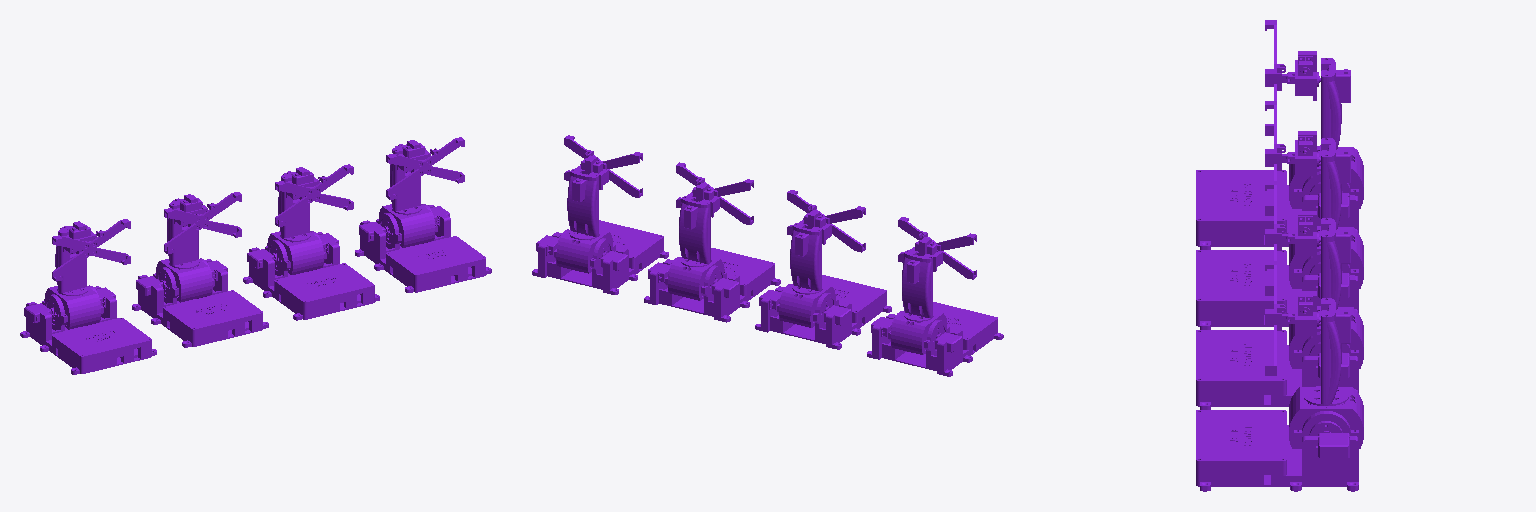
--- Render facts (derived) ---
3 views of the same robot in one strip: view 1: azimuth 30°, elevation 25°; view 2: azimuth 150°, elevation 25°; view 3: azimuth 270°, elevation 25° (orthographic).
Robot: survivor_buddy — 25 links, 24 joints (16 revolute, 8 fixed); root link world; default pose: all joints at 0.
Links seen in each view (by area): view 1: base_2, base_0, base_3, base_1, phonemount_2, phonemount_3, phonemount_0, phonemount_1, torso_3, torso_2, torso_1, torso_0 (+4 smaller); view 2: base_0, base_3, base_1, base_2, neck_2, neck_1, neck_3, neck_0, torso_1, torso_3, torso_0, torso_2 (+4 smaller); view 3: base_3, base_2, base_0, base_1, neck_3, torso_3, neck_2, neck_1, neck_0, torso_2, torso_0, torso_1 (+8 smaller).
Link boxes in pixels (x1,y1,x2,y2): base_2: (243, 231, 379, 320); base_0: (20, 285, 156, 374); base_3: (355, 204, 491, 292); base_1: (132, 258, 268, 347); phonemount_2: (275, 164, 353, 226); phonemount_3: (386, 137, 464, 199); phonemount_0: (52, 219, 130, 281); phonemount_1: (164, 192, 241, 253); torso_3: (379, 204, 434, 247); torso_2: (267, 231, 323, 274); torso_1: (156, 259, 212, 302); torso_0: (44, 286, 100, 329); base_0: (867, 302, 1003, 376); base_3: (532, 220, 668, 294); base_1: (755, 275, 891, 349); base_2: (644, 248, 780, 322); neck_2: (679, 196, 711, 266); neck_1: (790, 223, 822, 294); neck_3: (567, 169, 599, 239); neck_0: (902, 250, 933, 321); torso_1: (779, 284, 835, 327); torso_3: (556, 229, 612, 273); torso_0: (891, 311, 946, 354); torso_2: (668, 257, 724, 300); base_3: (1196, 389, 1358, 491); base_2: (1196, 309, 1358, 409); base_0: (1196, 145, 1358, 249); base_1: (1196, 229, 1358, 329); neck_3: (1304, 298, 1350, 405); torso_3: (1289, 387, 1363, 448); neck_2: (1317, 218, 1350, 325); neck_1: (1317, 138, 1350, 245); neck_0: (1317, 58, 1350, 165); torso_2: (1289, 307, 1363, 368); torso_0: (1289, 147, 1363, 208); torso_1: (1289, 227, 1363, 288).
Size in the robot's own frame: 0.94 by 0.2225 by 0.253 metres.
Meshes: 5 distinct files referenced, 20 mesh visuals loaded (5 binary STL).

robot.urdf — survivor_buddy:
<?xml version="1.0" ?>
<robot name="survivor_buddy">
    <!-- =======================SB 0================================== -->
    <!-- JOINTS- KINEMATIC DATA -->
    <joint name="sb_to_world_0" type="fixed" >
        <origin xyz="0 0 0" rpy="0 0 0"/>   <!-- CHANGE THIS LINE -->
        <parent link="world" />
        <child link="base_dummy_0" />
        <axis xyz="0.0 0.0 0.0" />
        <limit lower="0.0" upper="0.0" effort="0.0" velocity="0.0" />
    </joint>
    <joint name="base_fixed_0" type="fixed">
        <origin xyz="-0.035 -0.033 0.0" rpy="0.0 0.0 0.0" />
        <parent link="base_dummy_0" />
        <child link="base_0" />
        <axis xyz="0.0 0.0 0.0" />
        <limit lower="0.0" upper="0.0" effort="0.0" velocity="0.0" />
    </joint>
    <joint name="torso_joint_0" type="revolute">
        <origin xyz="0.0 0.033 .056" rpy="0.0 0.0 0.0" />
        <parent link="base_0" />
        <child link="torso_0" />
        <axis xyz="1 0.0 0.0" />
        <limit lower="-1.57" upper="1.2" effort="0.0" velocity="0.0" />
    </joint>
    <joint name="neck_swivel_0" type="revolute">
        <origin xyz="0.035 0 0.0" rpy="0.0 0.0 0.0" />
        <parent link="torso_0" />
        <child link="neck_0" />
        <axis xyz="0.0 0.0 1" />
        <limit lower="-1.57" upper="1.57" effort="0.0" velocity="0.0" />
    </joint>
    <joint name="head_tilt_0" type="revolute">
        <origin xyz="0.0 0.0 0.15" rpy="0.0 0.0 0.0" />
        <parent link="neck_0" />
        <child link="head_0" />
        <axis xyz="0.0 1 0.0" />
        <limit lower="-1.57" upper="1.57" effort="0.0" velocity="0.0" />
    </joint>
    <joint name="head_nod_0" type="revolute">
        <origin xyz="0.0 -0.049 0" rpy="0.0 0.0 0.0" />
        <parent link="head_0" />
        <child link="phonemount_0" />
        <axis xyz="1 0 0.0" />
        <limit lower="-.7" upper=".7" effort="0.0" velocity="0.0" />
    </joint>
    <!-- LINKS- INERTIAL DATA -->
    <link name="world" />
    <link name="base_dummy_0" />
    <link name="base_0">
        <inertial>
            <origin xyz="0.0 0.0 0.0" rpy="0.0 0.0 0.0" />
            <mass value="0.0" />
            <inertia ixx="0.0" ixy="0.0" ixz="0.0" iyy="0.0" iyz="0.0" izz="0.0" />
        </inertial>
        <visual name="">
            <origin xyz="0.0 0.0 0.0" rpy="0.0 0.0 0.0" />
            <geometry>
                <mesh filename="package://survivorbuddy_ros/meshes/visual/base.stl" />
            </geometry>
            <material name="">
                <color rgba="0.6 0.2 0.9 1.0" />
            </material>
        </visual>
        <collision>
            <origin xyz="0.0 0.0 0.0" rpy="0.0 0.0 0.0" />
            <geometry>
                <mesh filename="package://survivorbuddy_ros/meshes/collision/base.stl" />
            </geometry>
        </collision>
    </link>
    <link name="torso_0">
        <inertial>
            <origin xyz="0.0 -0.033 -.056" rpy="0.0 0.0 0.0" />
            <mass value="0.0" />
            <inertia ixx="0.0" ixy="0.0" ixz="0.0" iyy="0.0" iyz="0.0" izz="0.0" />
        </inertial>
        <visual name="">
            <origin xyz="0.0 -0.033 -.056" rpy="0.0 0.0 0.0" />
            <geometry>
                <mesh filename="package://survivorbuddy_ros/meshes/visual/torso.stl" />
            </geometry>
            <material name="">
                <color rgba="0.6 0.2 0.9 1.0" />
            </material>
        </visual>
        <collision>
            <origin xyz="0.0 -0.033 -.056" rpy="0.0 0.0 0.0" />
            <geometry>
                <mesh filename="package://survivorbuddy_ros/meshes/collision/torso.stl" />
            </geometry>
        </collision>
    </link>
    <link name="neck_0">
        <inertial>
            <origin xyz="-0.035 -0.033 -0.056" rpy="0.0 0.0 0.0" />
            <mass value="0.0" />
            <inertia ixx="0.0" ixy="0.0" ixz="0.0" iyy="0.0" iyz="0.0" izz="0.0" />
        </inertial>
        <visual name="">
            <origin xyz="-0.035 -0.033 -0.056" rpy="0.0 0.0 0.0" />
            <geometry>
                <mesh filename="package://survivorbuddy_ros/meshes/visual/neck.stl" />
            </geometry>
            <material name="">
                <color rgba="0.6 0.2 0.9 1.0" />
            </material>
        </visual>
        <collision>
            <origin xyz="-0.035 -0.033 -0.056" rpy="0.0 0.0 0.0" />
            <geometry>
                <mesh filename="package://survivorbuddy_ros/meshes/collision/neck.stl" />
            </geometry>
        </collision>
    </link>
    <link name="head_0">
        <inertial>
            <origin xyz="-0.035 -0.033 -0.206" rpy="0.0 0.0 0.0" />
            <mass value="0.0" />
            <inertia ixx="0.0" ixy="0.0" ixz="0.0" iyy="0.0" iyz="0.0" izz="0.0" />
        </inertial>
        <visual name="">
            <origin xyz="-0.035 -0.033 -0.206" rpy="0.0 0.0 0.0" />
            <geometry>
                <mesh filename="package://survivorbuddy_ros/meshes/visual/head.stl" />
            </geometry>
            <material name="">
                <color rgba="0.6 0.2 0.9 1.0" />
            </material>
        </visual>
        <collision>
            <origin xyz="-0.035 -0.033 -0.206" rpy="0.0 0.0 0.0" />
            <geometry>
                <mesh filename="package://survivorbuddy_ros/meshes/collision/head.stl" />
            </geometry>
        </collision>
    </link>
    <link name="phonemount_0">
        <inertial>
            <origin xyz="-0.035 0.016 -0.206" rpy="0.0 0.0 0.0" />
            <mass value="0.0" />
            <inertia ixx="0.0" ixy="0.0" ixz="0.0" iyy="0.0" iyz="0.0" izz="0.0" />
        </inertial>
        <visual name="">
            <origin xyz="-0.035 0.016 -0.206" rpy="0.0 0.0 0.0" />
            <geometry>
                <mesh filename="package://survivorbuddy_ros/meshes/visual/phonemount-new.stl" />
            </geometry>
            <material name="">
                <color rgba="0.6 0.2 0.9 1.0" />
            </material>
        </visual>
        <collision>
            <origin xyz="-0.035 0.016 -0.206" rpy="0.0 0.0 0.0" />
            <geometry>
                <mesh filename="package://survivorbuddy_ros/meshes/collision/phonemount-new.stl" />
            </geometry>
        </collision>
    </link>
    <!-- =======================SB 1================================== -->
    <!-- JOINTS- KINEMATIC DATA -->
    <joint name="sb_to_world_1" type="fixed" >
        <origin xyz=".25 0 0" rpy="0 0 0"/>  <!-- CHANGE THIS LINE -->
        <parent link="world" />
        <child link="base_dummy_1" />
        <axis xyz="0.0 0.0 0.0" />
        <limit lower="0.0" upper="0.0" effort="0.0" velocity="0.0" />
    </joint>
    <joint name="base_fixed_1" type="fixed">
        <origin xyz="-0.035 -0.033 0.0" rpy="0.0 0.0 0.0" />
        <parent link="base_dummy_1" />
        <child link="base_1" />
        <axis xyz="0.0 0.0 0.0" />
        <limit lower="0.0" upper="0.0" effort="0.0" velocity="0.0" />
    </joint>
    <joint name="torso_joint_1" type="revolute">
        <origin xyz="0.0 0.033 .056" rpy="0.0 0.0 0.0" />
        <parent link="base_1" />
        <child link="torso_1" />
        <axis xyz="1 0.0 0.0" />
        <limit lower="-1.57" upper="1.2" effort="0.0" velocity="0.0" />
    </joint>
    <joint name="neck_swivel_1" type="revolute">
        <origin xyz="0.035 0 0.0" rpy="0.0 0.0 0.0" />
        <parent link="torso_1" />
        <child link="neck_1" />
        <axis xyz="0.0 0.0 1" />
        <limit lower="-1.57" upper="1.57" effort="0.0" velocity="0.0" />
    </joint>
    <joint name="head_tilt_1" type="revolute">
        <origin xyz="0.0 0.0 0.15" rpy="0.0 0.0 0.0" />
        <parent link="neck_1" />
        <child link="head_1" />
        <axis xyz="0.0 1 0.0" />
        <limit lower="-1.57" upper="1.57" effort="0.0" velocity="0.0" />
    </joint>
    <joint name="head_nod_1" type="revolute">
        <origin xyz="0.0 -0.049 0" rpy="0.0 0.0 0.0" />
        <parent link="head_1" />
        <child link="phonemount_1" />
        <axis xyz="1 0 0.0" />
        <limit lower="-.7" upper=".7" effort="0.0" velocity="0.0" />
    </joint>
    <!-- LINKS- INERTIAL DATA -->
    <link name="base_dummy_1" />
    <link name="base_1">
        <inertial>
            <origin xyz="0.0 0.0 0.0" rpy="0.0 0.0 0.0" />
            <mass value="0.0" />
            <inertia ixx="0.0" ixy="0.0" ixz="0.0" iyy="0.0" iyz="0.0" izz="0.0" />
        </inertial>
        <visual name="">
            <origin xyz="0.0 0.0 0.0" rpy="0.0 0.0 0.0" />
            <geometry>
                <mesh filename="package://survivorbuddy_ros/meshes/visual/base.stl" />
            </geometry>
            <material name="">
                <color rgba="0.6 0.2 0.9 1.0" />
            </material>
        </visual>
        <collision>
            <origin xyz="0.0 0.0 0.0" rpy="0.0 0.0 0.0" />
            <geometry>
                <mesh filename="package://survivorbuddy_ros/meshes/collision/base.stl" />
            </geometry>
        </collision>
    </link>
    <link name="torso_1">
        <inertial>
            <origin xyz="0.0 -0.033 -.056" rpy="0.0 0.0 0.0" />
            <mass value="0.0" />
            <inertia ixx="0.0" ixy="0.0" ixz="0.0" iyy="0.0" iyz="0.0" izz="0.0" />
        </inertial>
        <visual name="">
            <origin xyz="0.0 -0.033 -.056" rpy="0.0 0.0 0.0" />
            <geometry>
                <mesh filename="package://survivorbuddy_ros/meshes/visual/torso.stl" />
            </geometry>
            <material name="">
                <color rgba="0.6 0.2 0.9 1.0" />
            </material>
        </visual>
        <collision>
            <origin xyz="0.0 -0.033 -.056" rpy="0.0 0.0 0.0" />
            <geometry>
                <mesh filename="package://survivorbuddy_ros/meshes/collision/torso.stl" />
            </geometry>
        </collision>
    </link>
    <link name="neck_1">
        <inertial>
            <origin xyz="-0.035 -0.033 -0.056" rpy="0.0 0.0 0.0" />
            <mass value="0.0" />
            <inertia ixx="0.0" ixy="0.0" ixz="0.0" iyy="0.0" iyz="0.0" izz="0.0" />
        </inertial>
        <visual name="">
            <origin xyz="-0.035 -0.033 -0.056" rpy="0.0 0.0 0.0" />
            <geometry>
                <mesh filename="package://survivorbuddy_ros/meshes/visual/neck.stl" />
            </geometry>
            <material name="">
                <color rgba="0.6 0.2 0.9 1.0" />
            </material>
        </visual>
        <collision>
            <origin xyz="-0.035 -0.033 -0.056" rpy="0.0 0.0 0.0" />
            <geometry>
                <mesh filename="package://survivorbuddy_ros/meshes/collision/neck.stl" />
            </geometry>
        </collision>
    </link>
    <link name="head_1">
        <inertial>
            <origin xyz="-0.035 -0.033 -0.206" rpy="0.0 0.0 0.0" />
            <mass value="0.0" />
            <inertia ixx="0.0" ixy="0.0" ixz="0.0" iyy="0.0" iyz="0.0" izz="0.0" />
        </inertial>
        <visual name="">
            <origin xyz="-0.035 -0.033 -0.206" rpy="0.0 0.0 0.0" />
            <geometry>
                <mesh filename="package://survivorbuddy_ros/meshes/visual/head.stl" />
            </geometry>
            <material name="">
                <color rgba="0.6 0.2 0.9 1.0" />
            </material>
        </visual>
        <collision>
            <origin xyz="-0.035 -0.033 -0.206" rpy="0.0 0.0 0.0" />
            <geometry>
                <mesh filename="package://survivorbuddy_ros/meshes/collision/head.stl" />
            </geometry>
        </collision>
    </link>
    <link name="phonemount_1">
        <inertial>
            <origin xyz="-0.035 0.016 -0.206" rpy="0.0 0.0 0.0" />
            <mass value="0.0" />
            <inertia ixx="0.0" ixy="0.0" ixz="0.0" iyy="0.0" iyz="0.0" izz="0.0" />
        </inertial>
        <visual name="">
            <origin xyz="-0.035 0.016 -0.206" rpy="0.0 0.0 0.0" />
            <geometry>
                <mesh filename="package://survivorbuddy_ros/meshes/visual/phonemount-new.stl" />
            </geometry>
            <material name="">
                <color rgba="0.6 0.2 0.9 1.0" />
            </material>
        </visual>
        <collision>
            <origin xyz="-0.035 0.016 -0.206" rpy="0.0 0.0 0.0" />
            <geometry>
                <mesh filename="package://survivorbuddy_ros/meshes/collision/phonemount-new.stl" />
            </geometry>
        </collision>
    </link>
    <!-- =======================SB 2================================== -->
    <!-- JOINTS- KINEMATIC DATA -->
    <joint name="sb_to_world_2" type="fixed" >
        <origin xyz=".5 0 0" rpy="0 0 0"/>  <!-- CHANGE THIS LINE -->
        <parent link="world" />
        <child link="base_dummy_2" />
        <axis xyz="0.0 0.0 0.0" />
        <limit lower="0.0" upper="0.0" effort="0.0" velocity="0.0" />
    </joint>
    <joint name="base_fixed_2" type="fixed">
        <origin xyz="-0.035 -0.033 0.0" rpy="0.0 0.0 0.0" />
        <parent link="base_dummy_2" />
        <child link="base_2" />
        <axis xyz="0.0 0.0 0.0" />
        <limit lower="0.0" upper="0.0" effort="0.0" velocity="0.0" />
    </joint>
    <joint name="torso_joint_2" type="revolute">
        <origin xyz="0.0 0.033 .056" rpy="0.0 0.0 0.0" />
        <parent link="base_2" />
        <child link="torso_2" />
        <axis xyz="1 0.0 0.0" />
        <limit lower="-1.57" upper="1.2" effort="0.0" velocity="0.0" />
    </joint>
    <joint name="neck_swivel_2" type="revolute">
        <origin xyz="0.035 0 0.0" rpy="0.0 0.0 0.0" />
        <parent link="torso_2" />
        <child link="neck_2" />
        <axis xyz="0.0 0.0 1" />
        <limit lower="-1.57" upper="1.57" effort="0.0" velocity="0.0" />
    </joint>
    <joint name="head_tilt_2" type="revolute">
        <origin xyz="0.0 0.0 0.15" rpy="0.0 0.0 0.0" />
        <parent link="neck_2" />
        <child link="head_2" />
        <axis xyz="0.0 1 0.0" />
        <limit lower="-1.57" upper="1.57" effort="0.0" velocity="0.0" />
    </joint>
    <joint name="head_nod_2" type="revolute">
        <origin xyz="0.0 -0.049 0" rpy="0.0 0.0 0.0" />
        <parent link="head_2" />
        <child link="phonemount_2" />
        <axis xyz="1 0 0.0" />
        <limit lower="-.7" upper=".7" effort="0.0" velocity="0.0" />
    </joint>
    <!-- LINKS- INERTIAL DATA -->
    <link name="base_dummy_2" />
    <link name="base_2">
        <inertial>
            <origin xyz="0.0 0.0 0.0" rpy="0.0 0.0 0.0" />
            <mass value="0.0" />
            <inertia ixx="0.0" ixy="0.0" ixz="0.0" iyy="0.0" iyz="0.0" izz="0.0" />
        </inertial>
        <visual name="">
            <origin xyz="0.0 0.0 0.0" rpy="0.0 0.0 0.0" />
            <geometry>
                <mesh filename="package://survivorbuddy_ros/meshes/visual/base.stl" />
            </geometry>
            <material name="">
                <color rgba="0.6 0.2 0.9 1.0" />
            </material>
        </visual>
        <collision>
            <origin xyz="0.0 0.0 0.0" rpy="0.0 0.0 0.0" />
            <geometry>
                <mesh filename="package://survivorbuddy_ros/meshes/collision/base.stl" />
            </geometry>
        </collision>
    </link>
    <link name="torso_2">
        <inertial>
            <origin xyz="0.0 -0.033 -.056" rpy="0.0 0.0 0.0" />
            <mass value="0.0" />
            <inertia ixx="0.0" ixy="0.0" ixz="0.0" iyy="0.0" iyz="0.0" izz="0.0" />
        </inertial>
        <visual name="">
            <origin xyz="0.0 -0.033 -.056" rpy="0.0 0.0 0.0" />
            <geometry>
                <mesh filename="package://survivorbuddy_ros/meshes/visual/torso.stl" />
            </geometry>
            <material name="">
                <color rgba="0.6 0.2 0.9 1.0" />
            </material>
        </visual>
        <collision>
            <origin xyz="0.0 -0.033 -.056" rpy="0.0 0.0 0.0" />
            <geometry>
                <mesh filename="package://survivorbuddy_ros/meshes/collision/torso.stl" />
            </geometry>
        </collision>
    </link>
    <link name="neck_2">
        <inertial>
            <origin xyz="-0.035 -0.033 -0.056" rpy="0.0 0.0 0.0" />
            <mass value="0.0" />
            <inertia ixx="0.0" ixy="0.0" ixz="0.0" iyy="0.0" iyz="0.0" izz="0.0" />
        </inertial>
        <visual name="">
            <origin xyz="-0.035 -0.033 -0.056" rpy="0.0 0.0 0.0" />
            <geometry>
                <mesh filename="package://survivorbuddy_ros/meshes/visual/neck.stl" />
            </geometry>
            <material name="">
                <color rgba="0.6 0.2 0.9 1.0" />
            </material>
        </visual>
        <collision>
            <origin xyz="-0.035 -0.033 -0.056" rpy="0.0 0.0 0.0" />
            <geometry>
                <mesh filename="package://survivorbuddy_ros/meshes/collision/neck.stl" />
            </geometry>
        </collision>
    </link>
    <link name="head_2">
        <inertial>
            <origin xyz="-0.035 -0.033 -0.206" rpy="0.0 0.0 0.0" />
            <mass value="0.0" />
            <inertia ixx="0.0" ixy="0.0" ixz="0.0" iyy="0.0" iyz="0.0" izz="0.0" />
        </inertial>
        <visual name="">
            <origin xyz="-0.035 -0.033 -0.206" rpy="0.0 0.0 0.0" />
            <geometry>
                <mesh filename="package://survivorbuddy_ros/meshes/visual/head.stl" />
            </geometry>
            <material name="">
                <color rgba="0.6 0.2 0.9 1.0" />
            </material>
        </visual>
        <collision>
            <origin xyz="-0.035 -0.033 -0.206" rpy="0.0 0.0 0.0" />
            <geometry>
                <mesh filename="package://survivorbuddy_ros/meshes/collision/head.stl" />
            </geometry>
        </collision>
    </link>
    <link name="phonemount_2">
        <inertial>
            <origin xyz="-0.035 0.016 -0.206" rpy="0.0 0.0 0.0" />
            <mass value="0.0" />
            <inertia ixx="0.0" ixy="0.0" ixz="0.0" iyy="0.0" iyz="0.0" izz="0.0" />
        </inertial>
        <visual name="">
            <origin xyz="-0.035 0.016 -0.206" rpy="0.0 0.0 0.0" />
            <geometry>
                <mesh filename="package://survivorbuddy_ros/meshes/visual/phonemount-new.stl" />
            </geometry>
            <material name="">
                <color rgba="0.6 0.2 0.9 1.0" />
            </material>
        </visual>
        <collision>
            <origin xyz="-0.035 0.016 -0.206" rpy="0.0 0.0 0.0" />
            <geometry>
                <mesh filename="package://survivorbuddy_ros/meshes/collision/phonemount-new.stl" />
            </geometry>
        </collision>
    </link>
    <!-- =======================SB 3================================== -->
    <!-- JOINTS- KINEMATIC DATA -->
    <joint name="sb_to_world_3" type="fixed" >
        <origin xyz=".75 0 0" rpy="0 0 0"/> <!-- CHANGE THIS LINE -->
        <parent link="world" />
        <child link="base_dummy_3" />
        <axis xyz="0.0 0.0 0.0" />
        <limit lower="0.0" upper="0.0" effort="0.0" velocity="0.0" />
    </joint>
    <joint name="base_fixed_3" type="fixed">
        <origin xyz="-0.035 -0.033 0.0" rpy="0.0 0.0 0.0" />
        <parent link="base_dummy_3" />
        <child link="base_3" />
        <axis xyz="0.0 0.0 0.0" />
        <limit lower="0.0" upper="0.0" effort="0.0" velocity="0.0" />
    </joint>
    <joint name="torso_joint_3" type="revolute">
        <origin xyz="0.0 0.033 .056" rpy="0.0 0.0 0.0" />
        <parent link="base_3" />
        <child link="torso_3" />
        <axis xyz="1 0.0 0.0" />
        <limit lower="-1.57" upper="1.2" effort="0.0" velocity="0.0" />
    </joint>
    <joint name="neck_swivel_3" type="revolute">
        <origin xyz="0.035 0 0.0" rpy="0.0 0.0 0.0" />
        <parent link="torso_3" />
        <child link="neck_3" />
        <axis xyz="0.0 0.0 1" />
        <limit lower="-1.57" upper="1.57" effort="0.0" velocity="0.0" />
    </joint>
    <joint name="head_tilt_3" type="revolute">
        <origin xyz="0.0 0.0 0.15" rpy="0.0 0.0 0.0" />
        <parent link="neck_3" />
        <child link="head_3" />
        <axis xyz="0.0 1 0.0" />
        <limit lower="-1.57" upper="1.57" effort="0.0" velocity="0.0" />
    </joint>
    <joint name="head_nod_3" type="revolute">
        <origin xyz="0.0 -0.049 0" rpy="0.0 0.0 0.0" />
        <parent link="head_3" />
        <child link="phonemount_3" />
        <axis xyz="1 0 0.0" />
        <limit lower="-.7" upper=".7" effort="0.0" velocity="0.0" />
    </joint>
    <!-- LINKS- INERTIAL DATA -->
    <link name="base_dummy_3" />
    <link name="base_3">
        <inertial>
            <origin xyz="0.0 0.0 0.0" rpy="0.0 0.0 0.0" />
            <mass value="0.0" />
            <inertia ixx="0.0" ixy="0.0" ixz="0.0" iyy="0.0" iyz="0.0" izz="0.0" />
        </inertial>
        <visual name="">
            <origin xyz="0.0 0.0 0.0" rpy="0.0 0.0 0.0" />
            <geometry>
                <mesh filename="package://survivorbuddy_ros/meshes/visual/base.stl" />
            </geometry>
            <material name="">
                <color rgba="0.6 0.2 0.9 1.0" />
            </material>
        </visual>
        <collision>
            <origin xyz="0.0 0.0 0.0" rpy="0.0 0.0 0.0" />
            <geometry>
                <mesh filename="package://survivorbuddy_ros/meshes/collision/base.stl" />
            </geometry>
        </collision>
    </link>
    <link name="torso_3">
        <inertial>
            <origin xyz="0.0 -0.033 -.056" rpy="0.0 0.0 0.0" />
            <mass value="0.0" />
            <inertia ixx="0.0" ixy="0.0" ixz="0.0" iyy="0.0" iyz="0.0" izz="0.0" />
        </inertial>
        <visual name="">
            <origin xyz="0.0 -0.033 -.056" rpy="0.0 0.0 0.0" />
            <geometry>
                <mesh filename="package://survivorbuddy_ros/meshes/visual/torso.stl" />
            </geometry>
            <material name="">
                <color rgba="0.6 0.2 0.9 1.0" />
            </material>
        </visual>
        <collision>
            <origin xyz="0.0 -0.033 -.056" rpy="0.0 0.0 0.0" />
            <geometry>
                <mesh filename="package://survivorbuddy_ros/meshes/collision/torso.stl" />
            </geometry>
        </collision>
    </link>
    <link name="neck_3">
        <inertial>
            <origin xyz="-0.035 -0.033 -0.056" rpy="0.0 0.0 0.0" />
            <mass value="0.0" />
            <inertia ixx="0.0" ixy="0.0" ixz="0.0" iyy="0.0" iyz="0.0" izz="0.0" />
        </inertial>
        <visual name="">
            <origin xyz="-0.035 -0.033 -0.056" rpy="0.0 0.0 0.0" />
            <geometry>
                <mesh filename="package://survivorbuddy_ros/meshes/visual/neck.stl" />
            </geometry>
            <material name="">
                <color rgba="0.6 0.2 0.9 1.0" />
            </material>
        </visual>
        <collision>
            <origin xyz="-0.035 -0.033 -0.056" rpy="0.0 0.0 0.0" />
            <geometry>
                <mesh filename="package://survivorbuddy_ros/meshes/collision/neck.stl" />
            </geometry>
        </collision>
    </link>
    <link name="head_3">
        <inertial>
            <origin xyz="-0.035 -0.033 -0.206" rpy="0.0 0.0 0.0" />
            <mass value="0.0" />
            <inertia ixx="0.0" ixy="0.0" ixz="0.0" iyy="0.0" iyz="0.0" izz="0.0" />
        </inertial>
        <visual name="">
            <origin xyz="-0.035 -0.033 -0.206" rpy="0.0 0.0 0.0" />
            <geometry>
                <mesh filename="package://survivorbuddy_ros/meshes/visual/head.stl" />
            </geometry>
            <material name="">
                <color rgba="0.6 0.2 0.9 1.0" />
            </material>
        </visual>
        <collision>
            <origin xyz="-0.035 -0.033 -0.206" rpy="0.0 0.0 0.0" />
            <geometry>
                <mesh filename="package://survivorbuddy_ros/meshes/collision/head.stl" />
            </geometry>
        </collision>
    </link>
    <link name="phonemount_3">
        <inertial>
            <origin xyz="-0.035 0.016 -0.206" rpy="0.0 0.0 0.0" />
            <mass value="0.0" />
            <inertia ixx="0.0" ixy="0.0" ixz="0.0" iyy="0.0" iyz="0.0" izz="0.0" />
        </inertial>
        <visual name="">
            <origin xyz="-0.035 0.016 -0.206" rpy="0.0 0.0 0.0" />
            <geometry>
                <mesh filename="package://survivorbuddy_ros/meshes/visual/phonemount-new.stl" />
            </geometry>
            <material name="">
                <color rgba="0.6 0.2 0.9 1.0" />
            </material>
        </visual>
        <collision>
            <origin xyz="-0.035 0.016 -0.206" rpy="0.0 0.0 0.0" />
            <geometry>
                <mesh filename="package://survivorbuddy_ros/meshes/collision/phonemount-new.stl" />
            </geometry>
        </collision>
    </link>
</robot>
